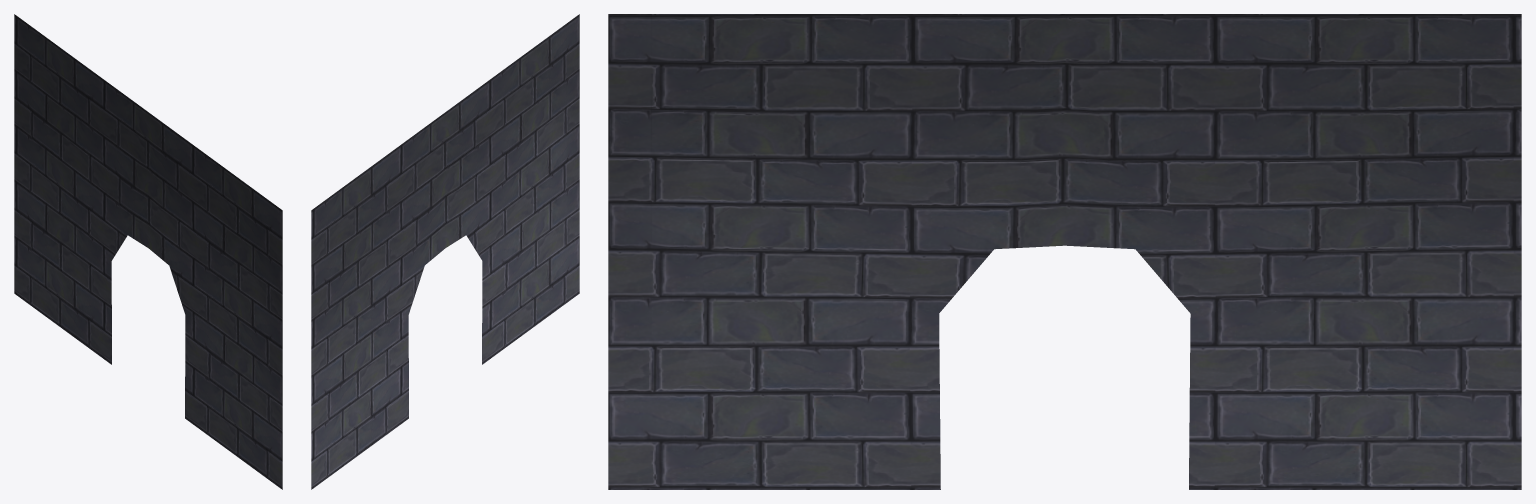
File: dungeon_wall_entry.FBX
The picture shows the model from 3 angles, left to right: view 1: azimuth 30°, elevation 25°; view 2: azimuth 150°, elevation 25°; view 3: azimuth 270°, elevation 25°; orthographic projection. The views are drawn at different scales.
Visible parts, largest first — view 1: wall_entry; view 2: wall_entry; view 3: wall_entry.
Part boxes in pixels (x1=…): wall_entry: x1=14, y1=14, x2=282, y2=489; wall_entry: x1=311, y1=14, x2=579, y2=489; wall_entry: x1=608, y1=14, x2=1521, y2=489.
Bounding box in the file's own units: 0.000195 × 575 × 1000.
Materials: 1 (1 with a texture image).
